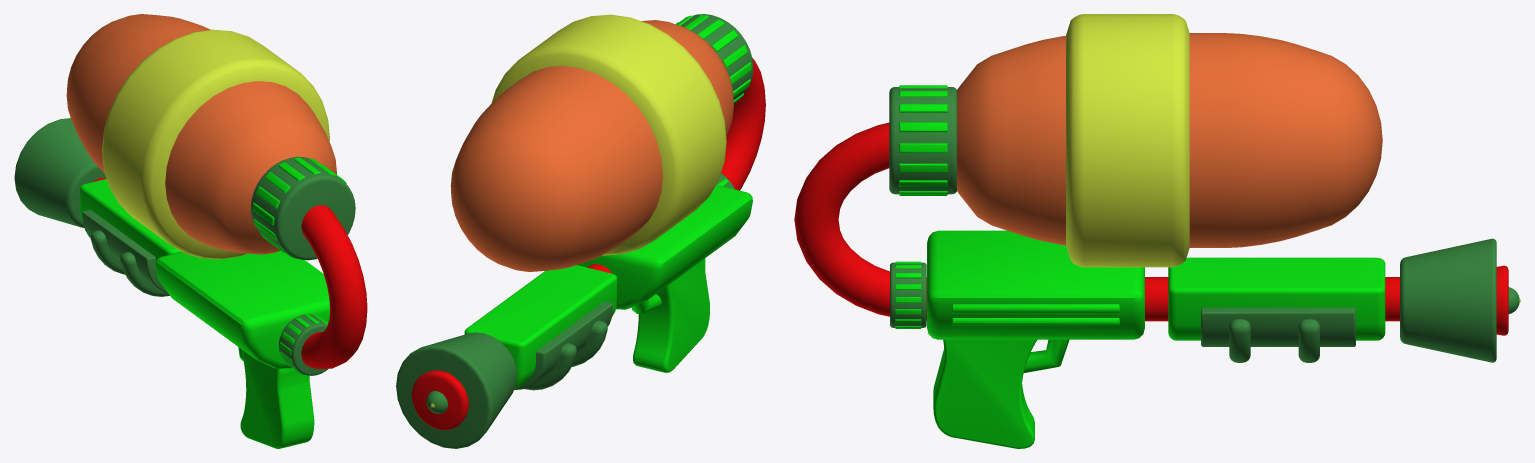
Rendered from silah1.fbx.
3 renders of one model, left to right at view 1: azimuth 30°, elevation 25°; view 2: azimuth 150°, elevation 25°; view 3: azimuth 270°, elevation 25°, orthographic. The views are drawn at different scales.
Visible parts, largest first — view 1: Sphere, Sphere.001, Circle.001, Circle, Circle.005, Cylinder, Plane, Circle.002, Circle.003, Cylinder.001, Circle.004, Cylinder.002 (+1 smaller); view 2: Sphere, Sphere.001, Circle.005, Circle.002, Circle.001, Plane, Circle, Circle.007, Circle.003, Circle.004, Cylinder, Cylinder.001 (+1 smaller); view 3: Sphere, Sphere.001, Circle.001, Circle.002, Circle, Circle.005, Plane, Circle.003, Cylinder, Cylinder.001, Circle.004, Cylinder.002 (+5 smaller).
Boxes of the visible parts, box(x1,y1,x2,y2) form: Sphere: box(66, 14, 336, 254); Sphere.001: box(102, 29, 329, 259); Circle.001: box(155, 250, 329, 368); Circle: box(92, 177, 367, 368); Circle.005: box(14, 118, 106, 227); Cylinder: box(251, 156, 355, 260); Plane: box(240, 349, 314, 448); Circle.002: box(80, 179, 181, 275); Circle.003: box(82, 209, 167, 292); Cylinder.001: box(252, 157, 346, 258); Circle.004: box(90, 230, 169, 296); Cylinder.002: box(278, 314, 328, 375); Sphere: box(450, 20, 733, 271); Sphere.001: box(491, 14, 726, 255); Circle.005: box(396, 332, 517, 448); Circle.002: box(464, 265, 617, 389); Circle.001: box(577, 185, 752, 309); Plane: box(633, 258, 709, 372); Circle: box(587, 58, 765, 273); Circle.007: box(411, 370, 468, 430); Circle.003: box(514, 301, 613, 389); Circle.004: box(524, 320, 607, 390); Cylinder: box(680, 14, 753, 99); Cylinder.001: box(675, 15, 751, 103); Sphere: box(957, 33, 1382, 247); Sphere.001: box(1066, 14, 1189, 267); Circle.001: box(927, 230, 1144, 339); Circle.002: box(1168, 257, 1385, 340); Circle: box(794, 122, 1399, 321); Circle.005: box(1400, 238, 1496, 362); Plane: box(933, 339, 1037, 448); Circle.003: box(1201, 307, 1355, 346); Cylinder: box(889, 87, 956, 194); Cylinder.001: box(899, 85, 947, 195); Circle.004: box(1229, 319, 1319, 362); Cylinder.002: box(890, 262, 926, 327).
Size of the model in its own units: 229 by 414 by 657.
